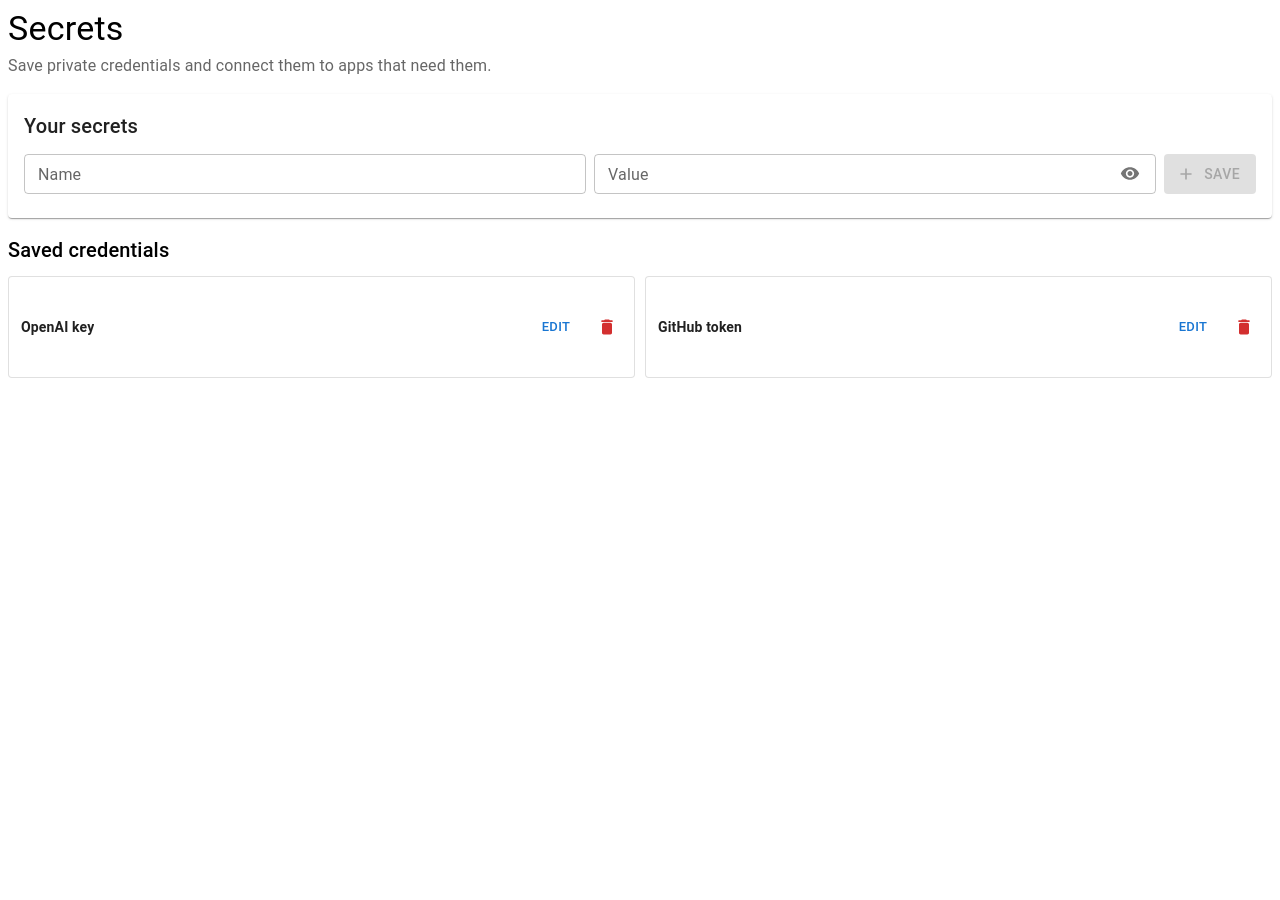
Test case: SecretsView › edits names and optional values and resets the editor after updating
The width and height of the screenshot is (1280, 900).
Click the button "Edit" in the row of "OpenAI key" at (556, 327), box [524,312,588,342]
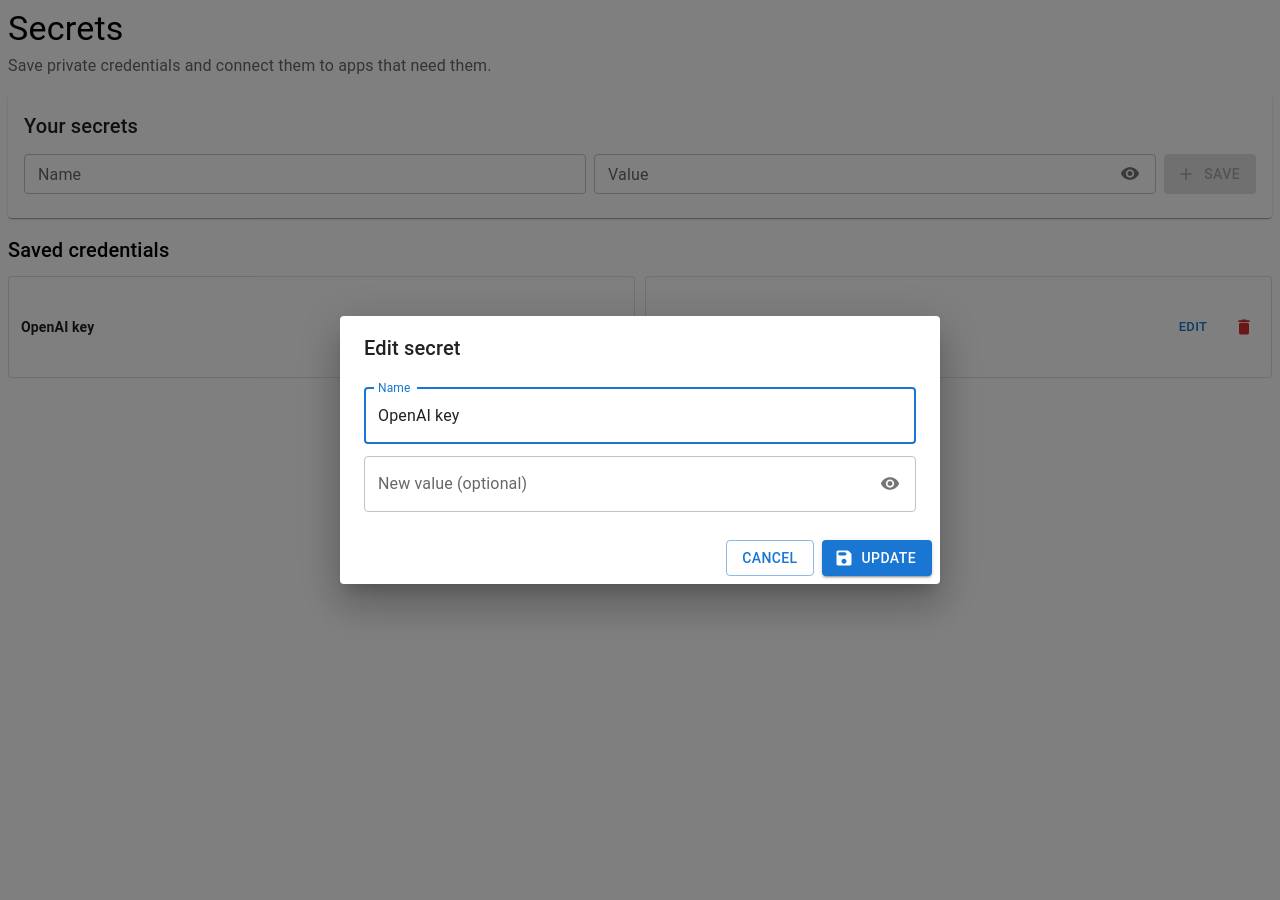
Clear the field labelled "Name" at (640, 416), box [364,388,916,444]
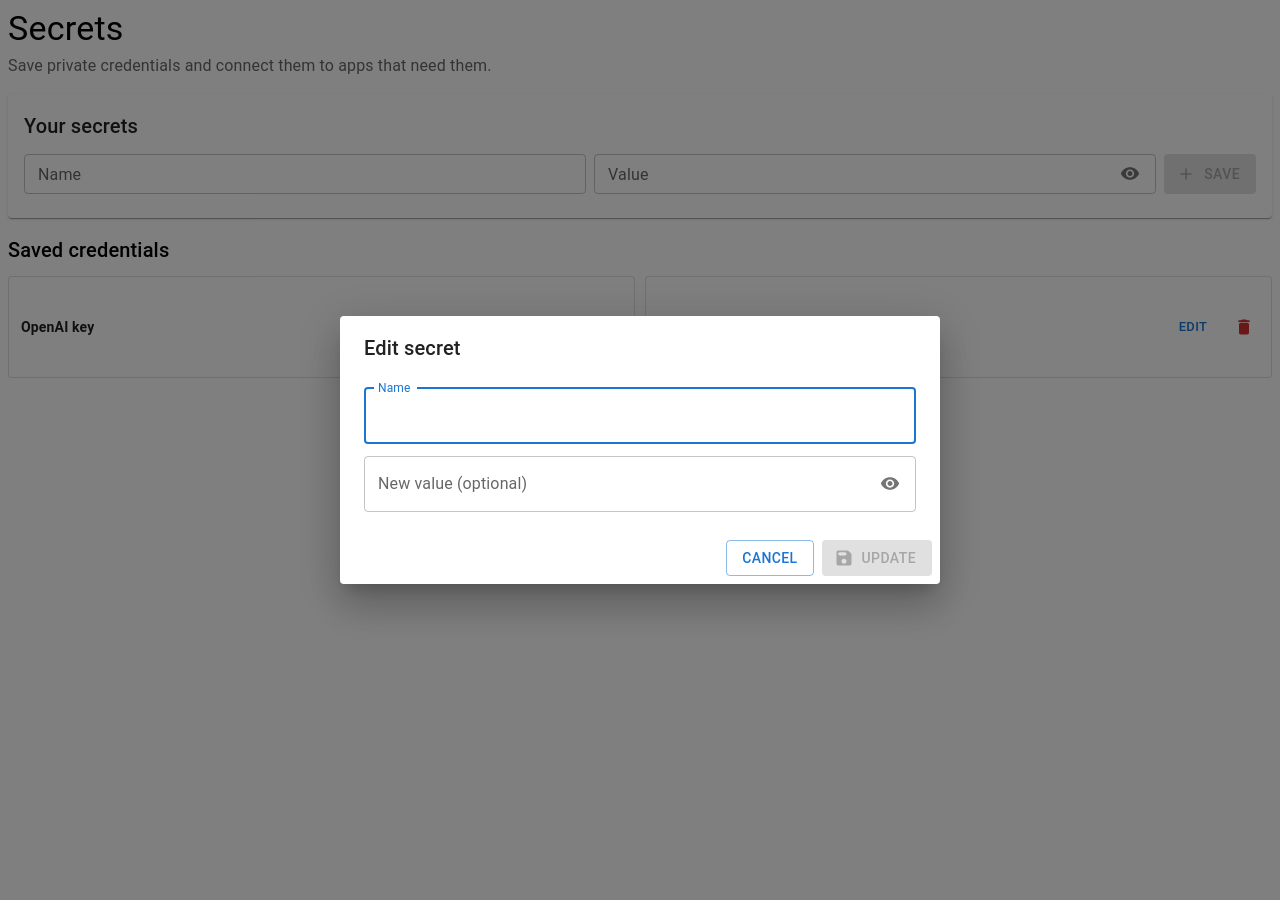
Now the button "Update" is disabled, box [822,540,932,576]
Type "Renamed key" into the field labelled "Name" at (640, 416), box [364,388,916,444]
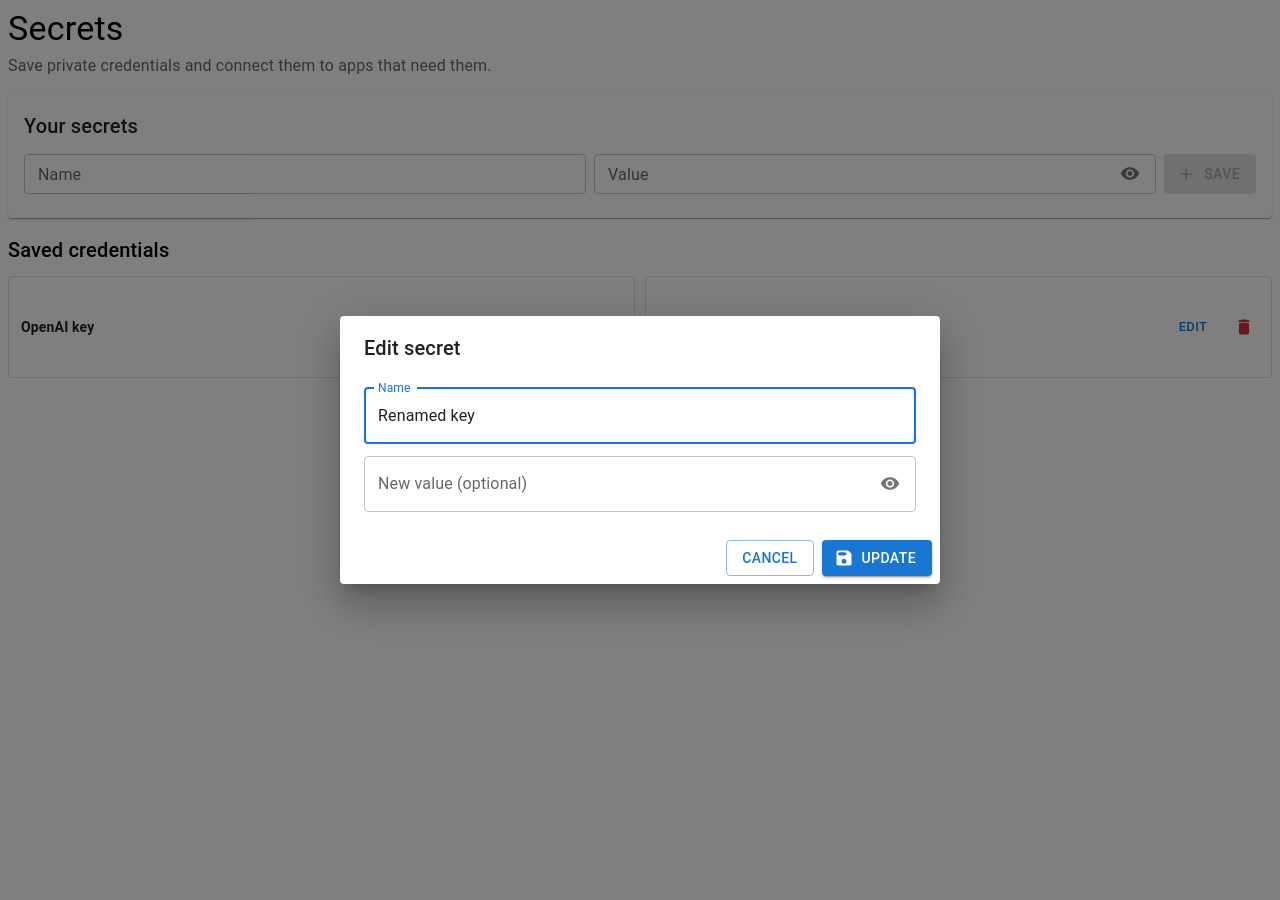
Click the button named "Show secret value" at (890, 484), box [875,469,905,499]
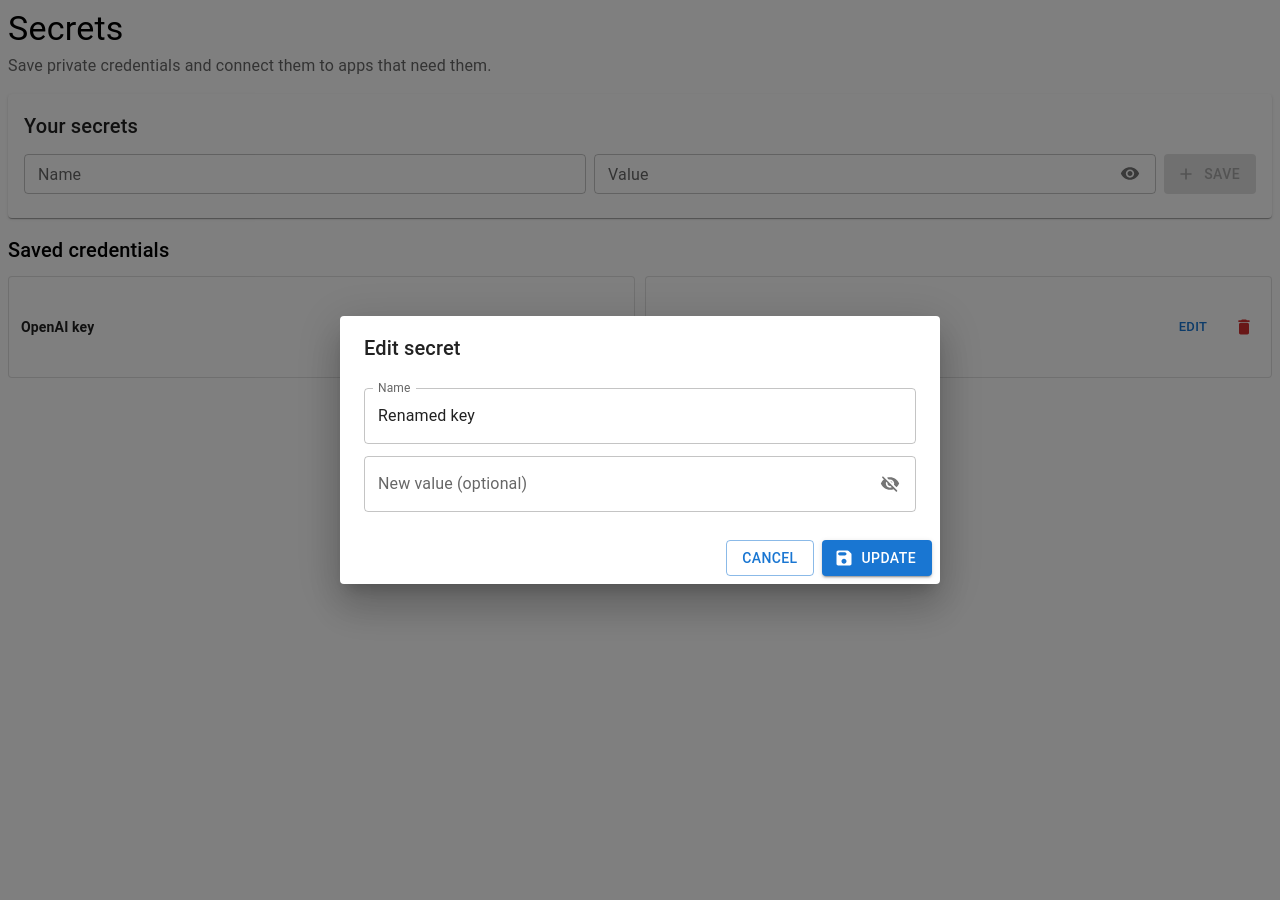
Type "replacement" into the field labelled "New value (optional)" at (616, 484), box [364,456,867,512]
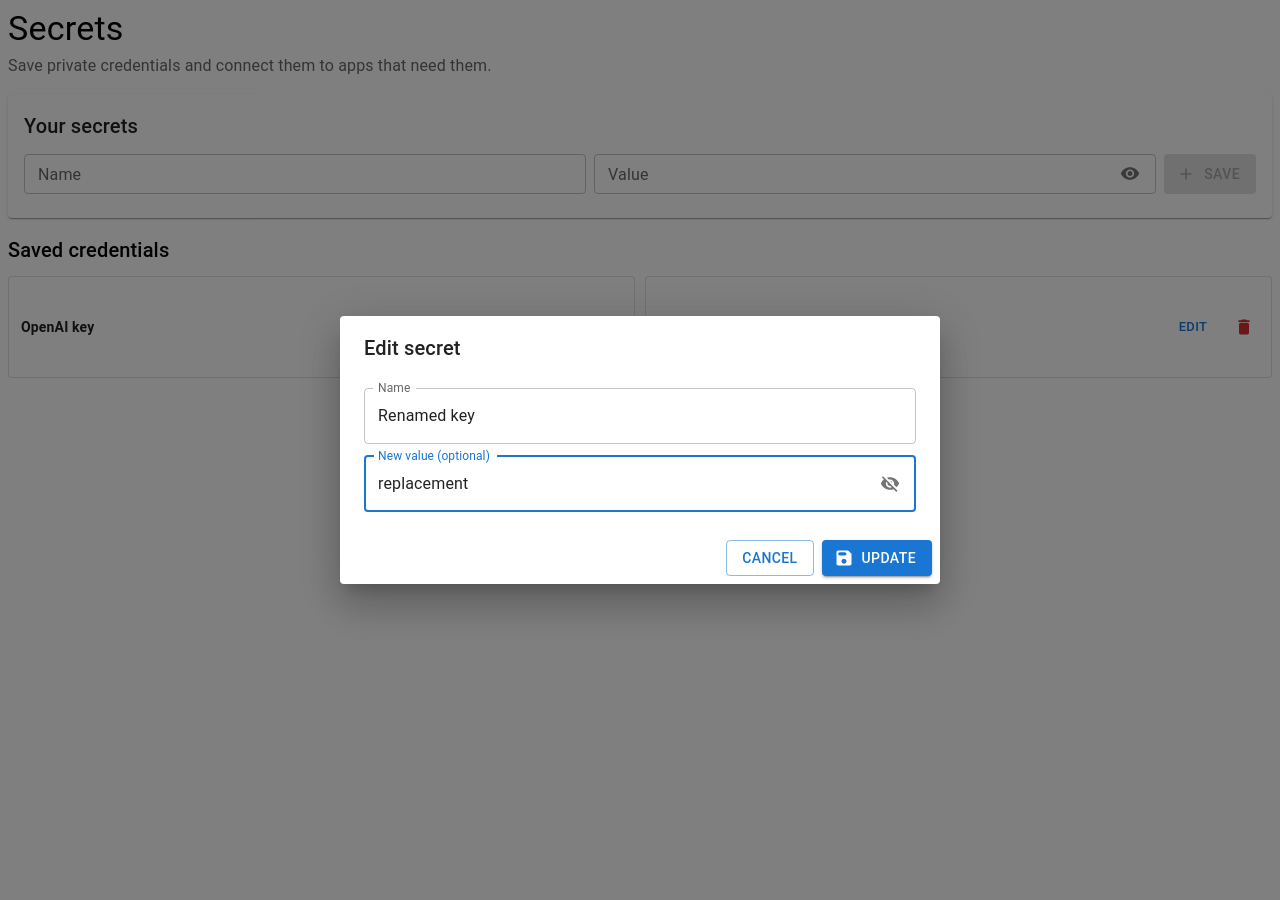
Click the button "Update" at (877, 558), box [822,540,932,576]
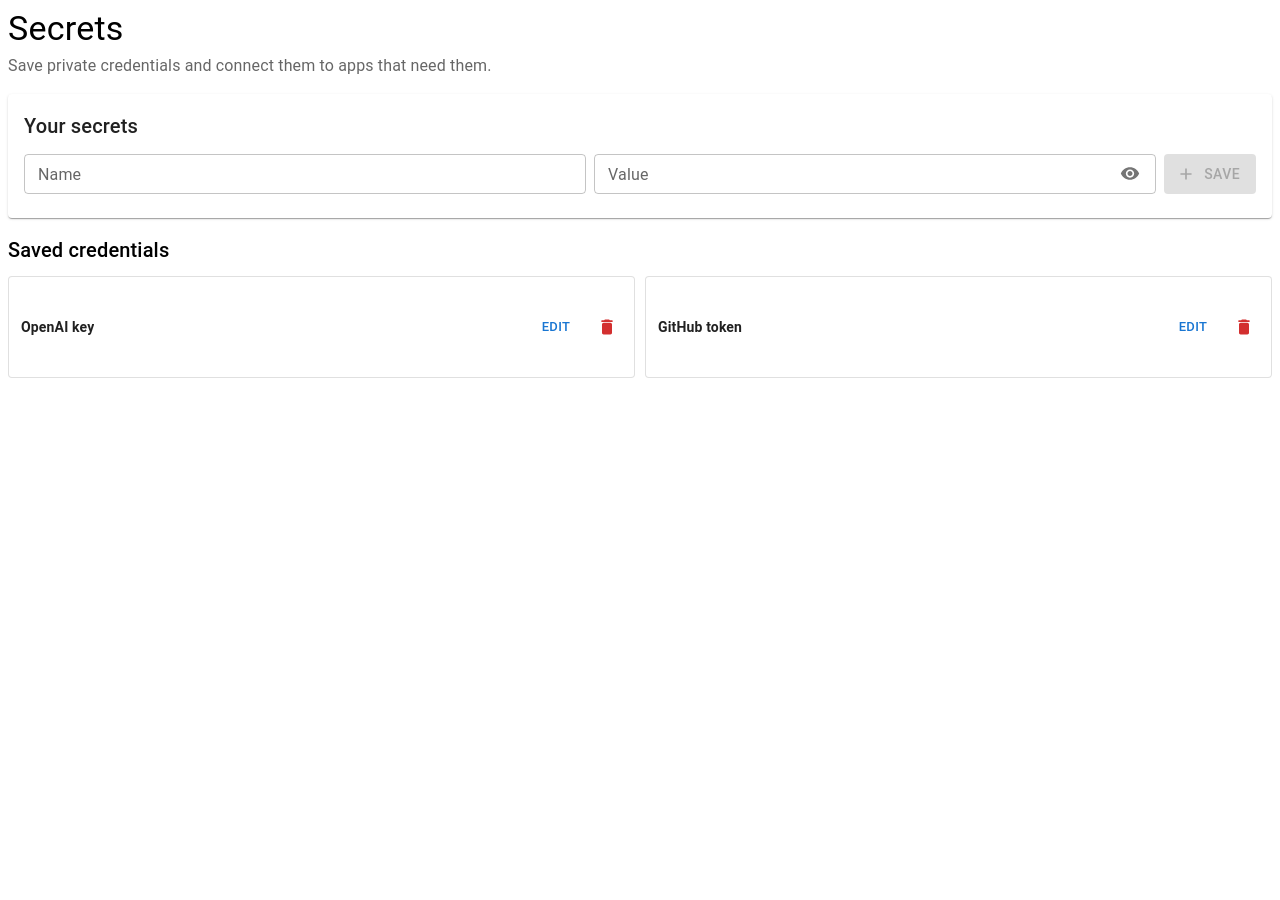
Now the dialog is gone
